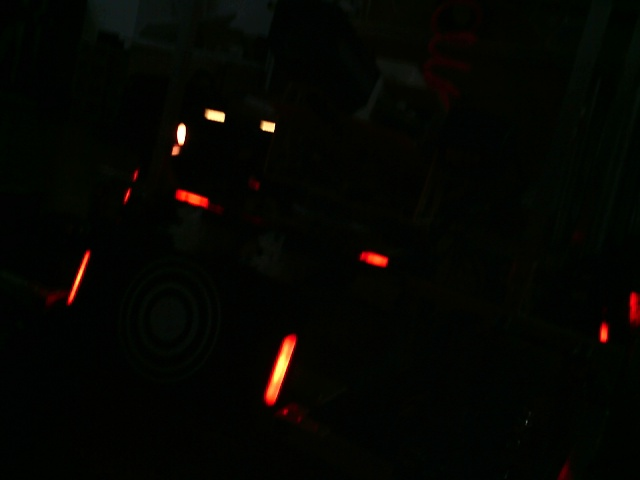lamp: (261, 326, 299, 410), (59, 244, 97, 310)
